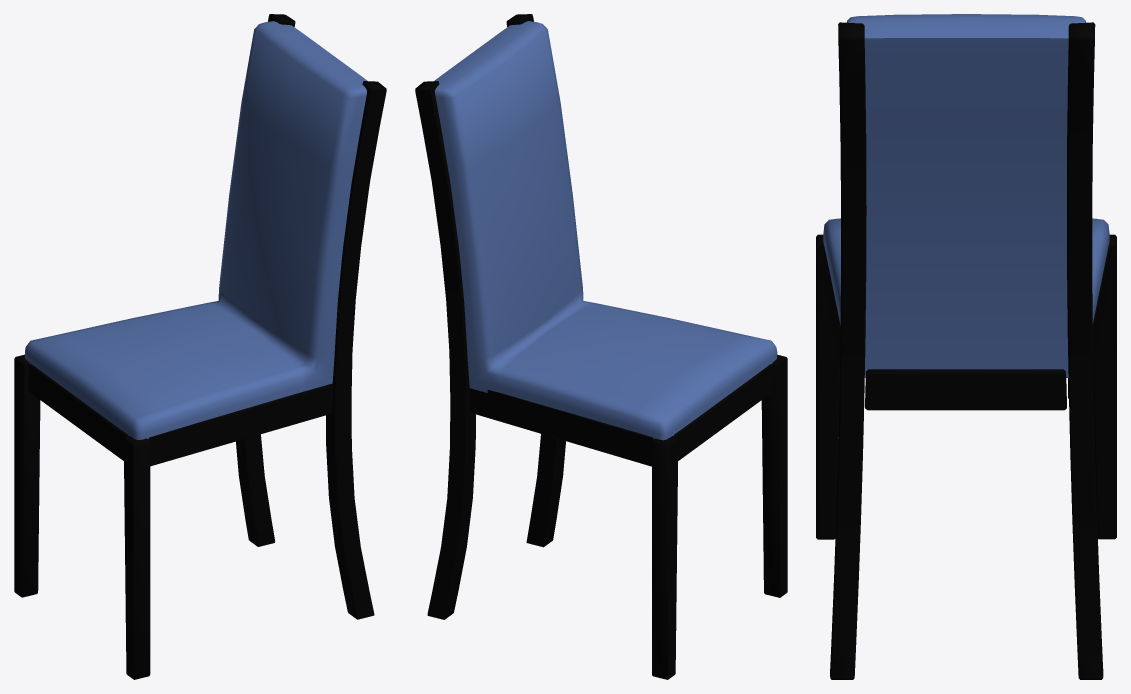
The model's file is meko chair 15.fbx.
The picture shows the model from 3 angles, left to right: view 1: azimuth 30°, elevation 25°; view 2: azimuth 150°, elevation 25°; view 3: azimuth 270°, elevation 25°; orthographic projection. The views are drawn at different scales.
Parts seen in each view (by area): view 1: seat, wood; view 2: seat, wood; view 3: seat, wood.
Boxes of the visible parts, box(x1,y1,x2,y2) form: seat: box(25, 21, 367, 440); wood: box(14, 14, 386, 679); seat: box(434, 21, 777, 440); wood: box(415, 14, 787, 679); seat: box(823, 14, 1109, 377); wood: box(816, 22, 1116, 679).
Size of the model in its own units: 52.81 by 101 by 41.8.
